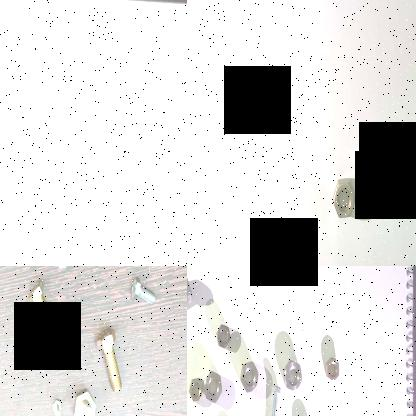Bolts: (93, 328, 125, 393), (26, 276, 54, 332), (126, 276, 158, 307), (73, 386, 97, 416), (264, 377, 280, 416), (187, 272, 195, 314), (51, 397, 64, 416)
NUTS: (329, 175, 356, 225), (200, 368, 223, 402), (238, 358, 260, 393), (283, 354, 302, 392), (356, 140, 376, 170), (323, 354, 343, 384), (215, 319, 231, 349), (187, 373, 203, 402)
